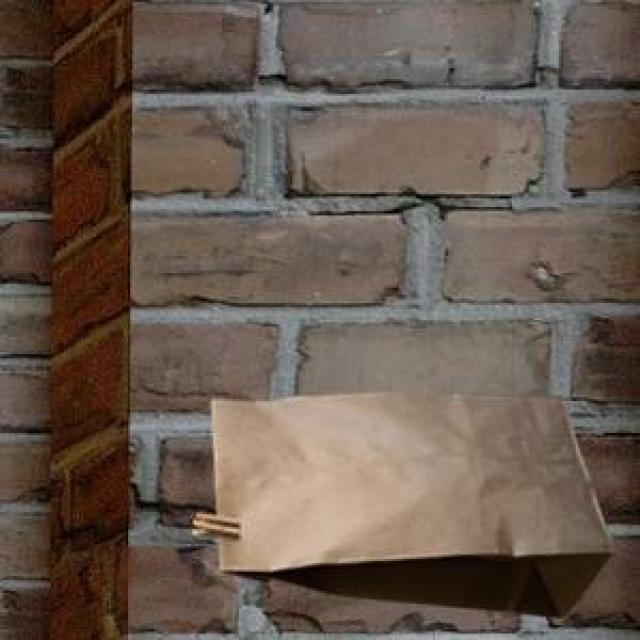paper: (188, 388, 610, 614)
